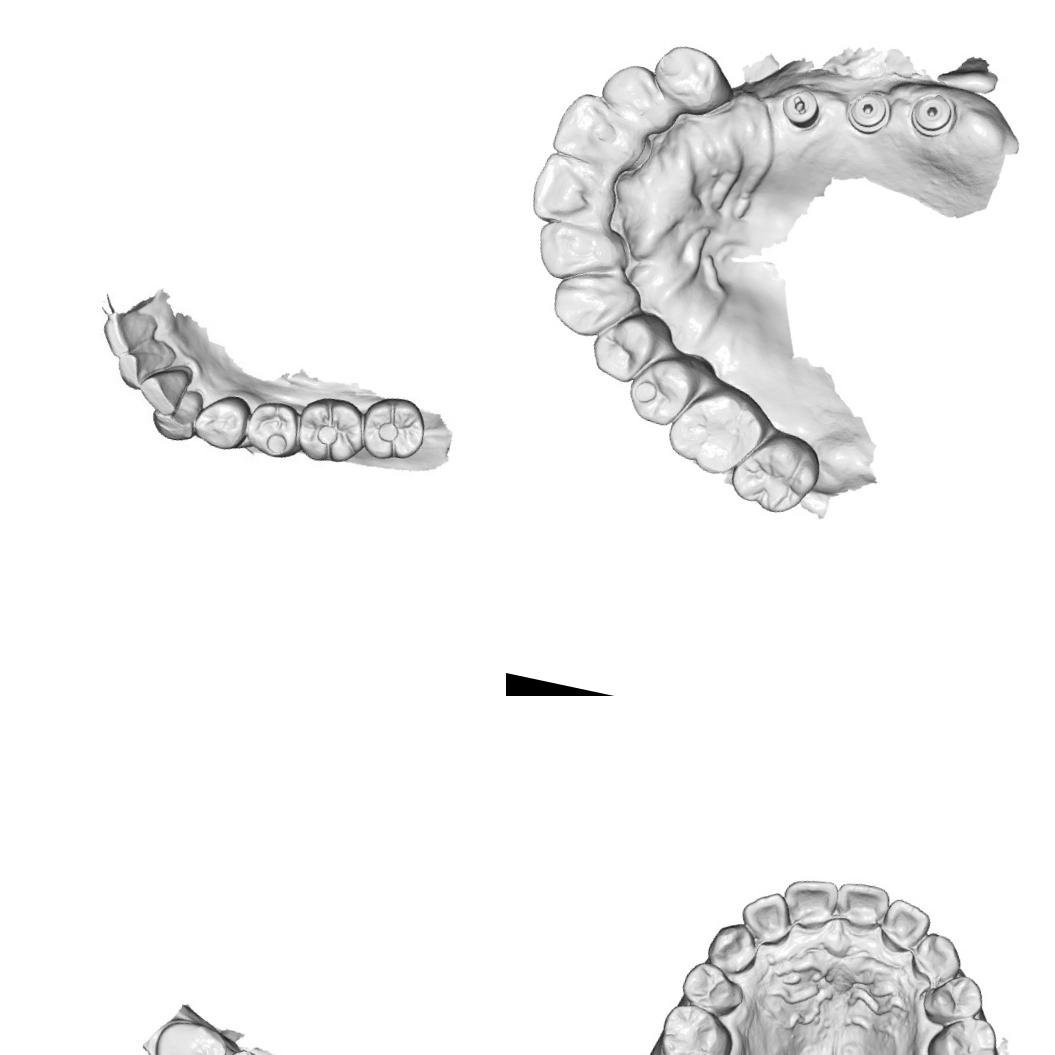canine: (544, 260, 643, 345), (644, 35, 736, 120), (906, 927, 968, 992), (702, 916, 764, 980)
implant: (842, 84, 894, 138), (906, 88, 958, 140)
implant_minus: (777, 82, 826, 132)
incisor: (532, 212, 640, 293), (528, 150, 618, 234), (548, 90, 640, 172), (596, 58, 677, 134), (112, 330, 177, 396), (95, 302, 162, 365), (735, 884, 797, 950), (829, 876, 893, 938), (777, 871, 840, 932), (876, 894, 934, 960), (138, 356, 197, 416)
molar: (662, 378, 774, 486), (724, 421, 827, 521), (289, 388, 372, 474), (355, 387, 434, 468), (653, 1000, 738, 1055), (918, 1008, 1004, 1055), (147, 1013, 232, 1055)
premolar: (620, 350, 704, 432), (586, 306, 664, 390), (918, 967, 990, 1031), (190, 390, 256, 458), (242, 397, 306, 463), (677, 957, 743, 1014)
